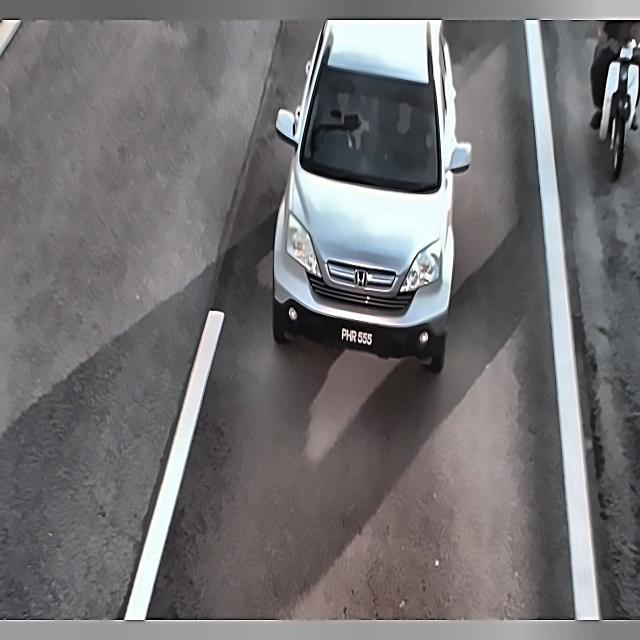car: (334, 318, 382, 355)
